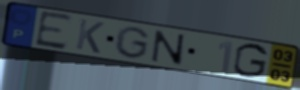1: (217, 40, 235, 74)
E: (33, 9, 75, 52)
G: (232, 42, 271, 79), (112, 25, 151, 60)
K: (74, 17, 106, 55)
N: (150, 29, 186, 68)
